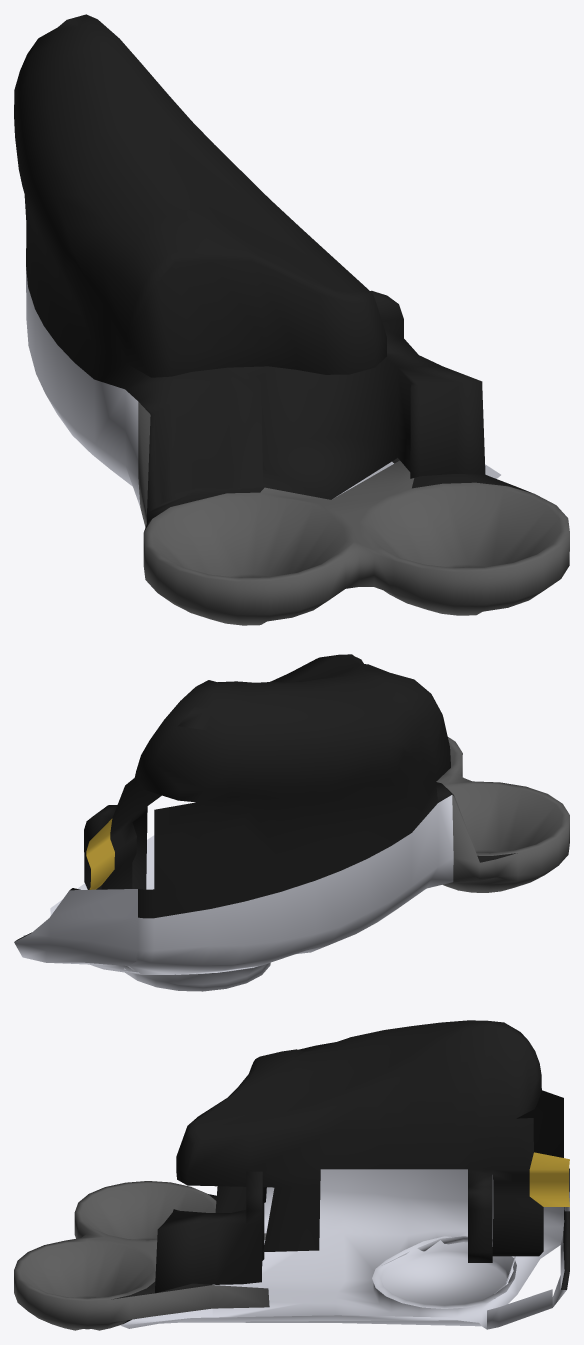
Rendered from h11_left.obj.
3 views of the same model, one above another, from view 1: azimuth 30°, elevation 25°; view 2: azimuth 150°, elevation 25°; view 3: azimuth 270°, elevation 25° (orthographic). The views are drawn at different scales.
Parts seen in each view (by area): view 1: h11_left; view 2: h11_left; view 3: h11_left.
Part boxes in pixels (x1=…): h11_left: x1=14, y1=14, x2=569, y2=625; h11_left: x1=14, y1=654, x2=569, y2=991; h11_left: x1=14, y1=1020, x2=569, y2=1330.
Size of the model in its own units: 0.048 by 0.0454 by 0.087.
